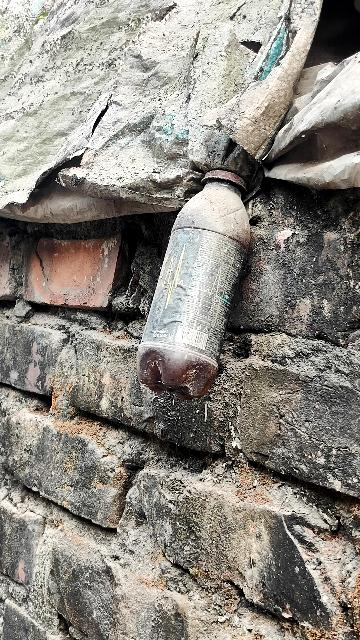bottle: (131, 176, 263, 403)
